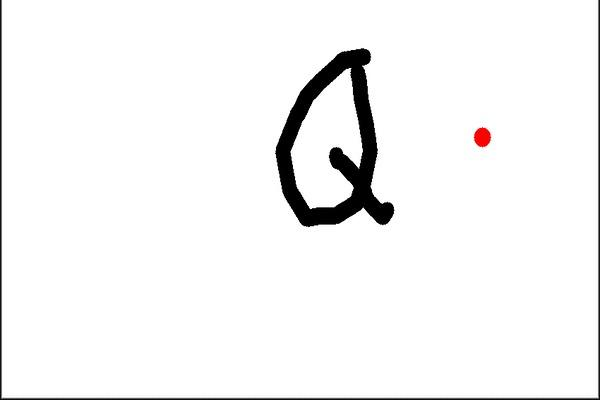Q: (249, 33, 416, 252)
